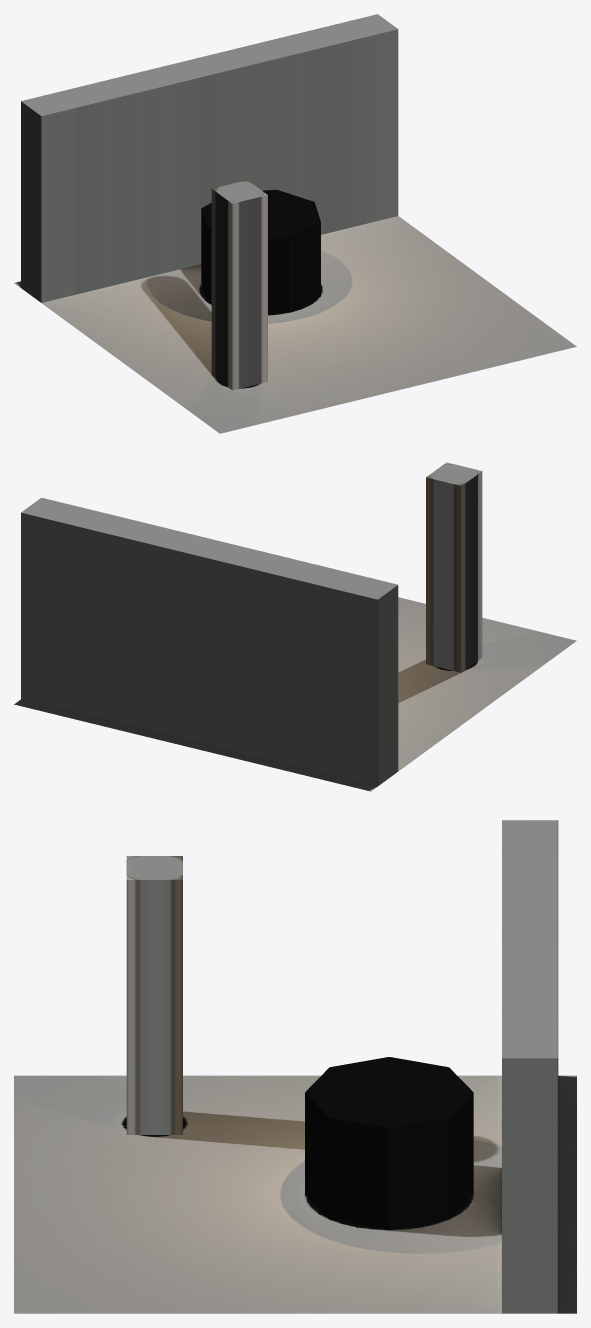
The model's file is environment.obj.
3 renders of one model, top to bottom at view 1: azimuth 30°, elevation 25°; view 2: azimuth 150°, elevation 25°; view 3: azimuth 270°, elevation 25°, orthographic. The views are drawn at different scales.
Visible parts, largest first — view 1: RND_Environment_Mesh_EnvironmentBakedAtlas; view 2: RND_Environment_Mesh_EnvironmentBakedAtlas; view 3: RND_Environment_Mesh_EnvironmentBakedAtlas.
Part boxes in pixels (x1=…): RND_Environment_Mesh_EnvironmentBakedAtlas: x1=14, y1=14, x2=576, y2=433; RND_Environment_Mesh_EnvironmentBakedAtlas: x1=14, y1=462, x2=576, y2=791; RND_Environment_Mesh_EnvironmentBakedAtlas: x1=14, y1=820, x2=576, y2=1313.
Size of the model in its own units: 6 by 3 by 6.
1 material, 1 textured.
